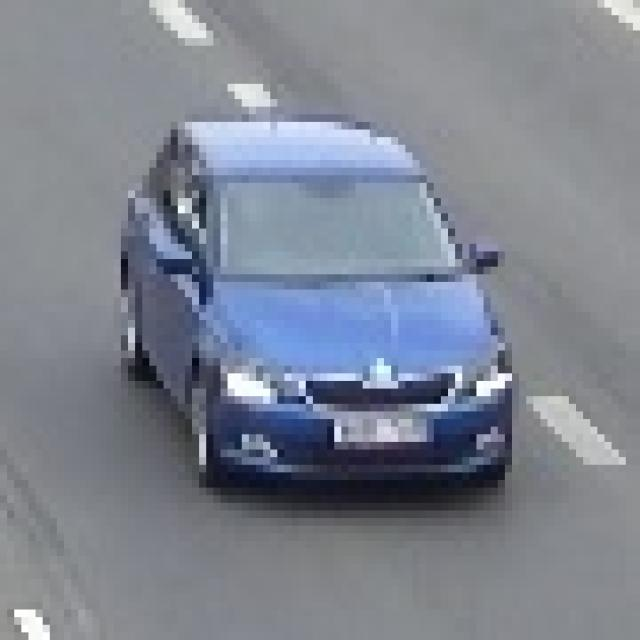blue: (120, 118, 514, 500)
